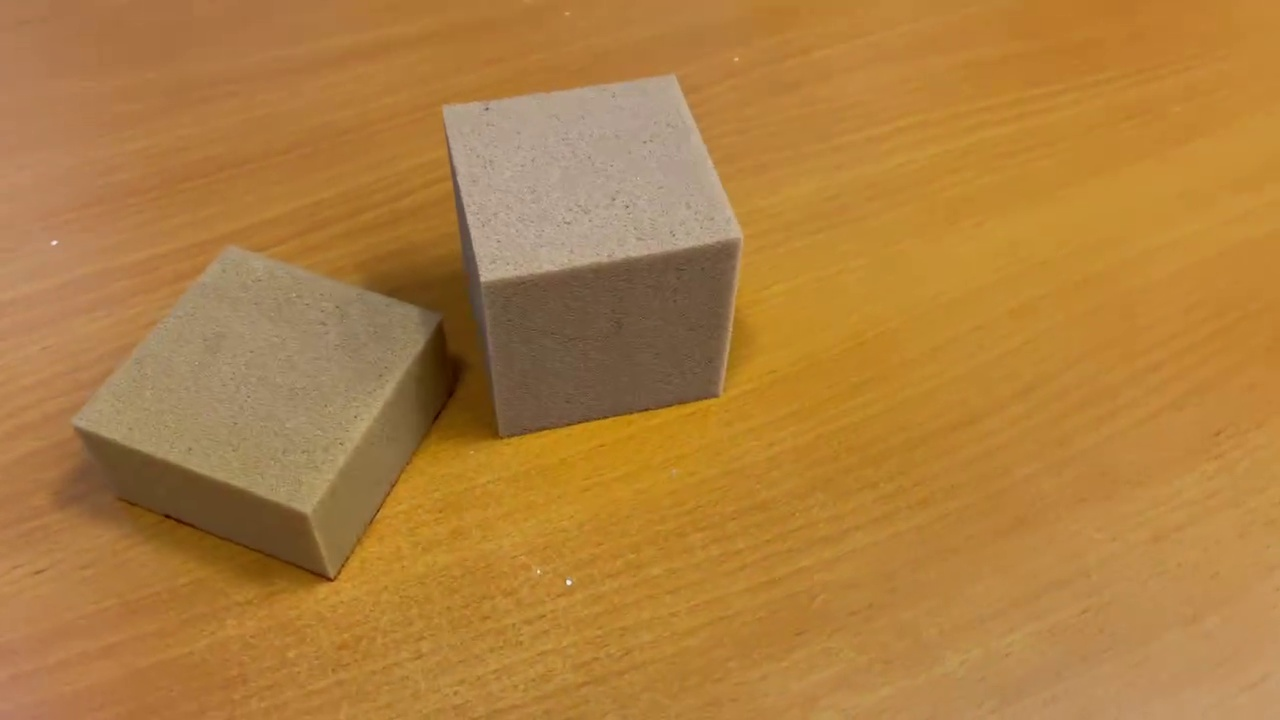Cube: (434, 65, 754, 444)
Cube_short: (59, 239, 463, 585)
